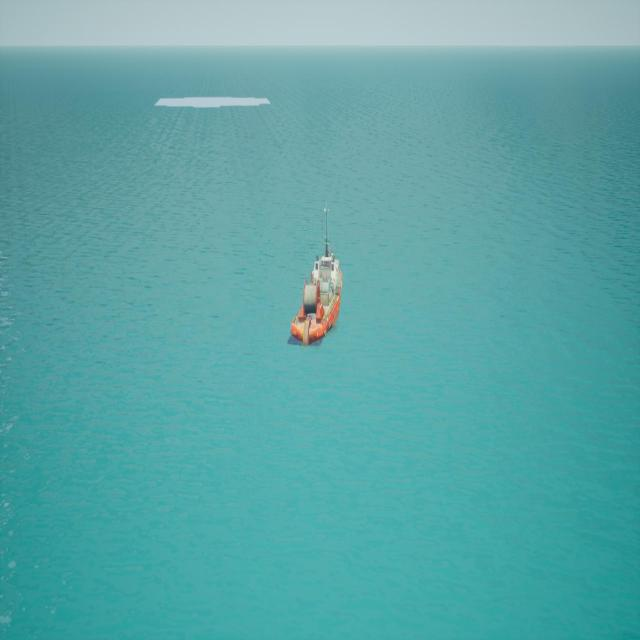tug boat: (295, 202, 345, 349)
